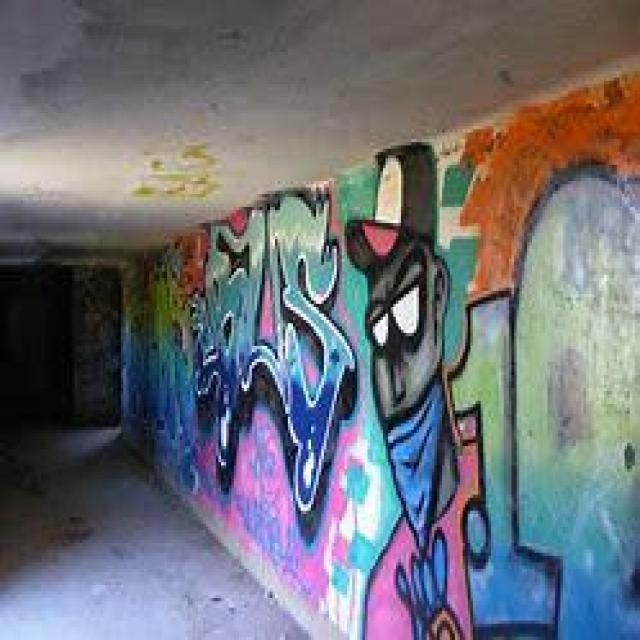nonspitting: (452, 165, 640, 640), (164, 185, 358, 540)
spitting: (342, 145, 481, 640)
